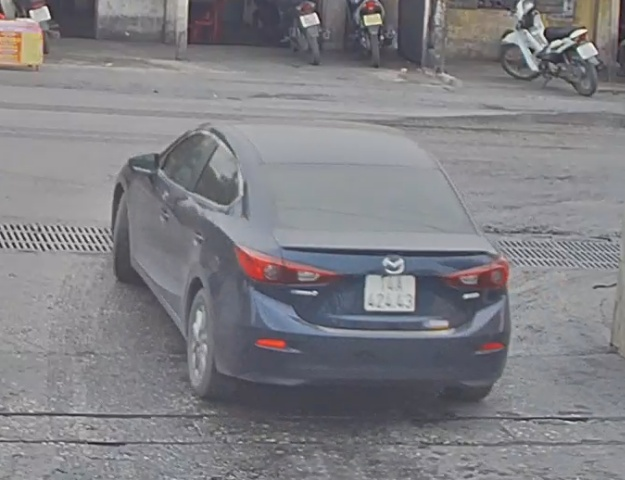vehicle plate: (362, 270, 421, 313)
